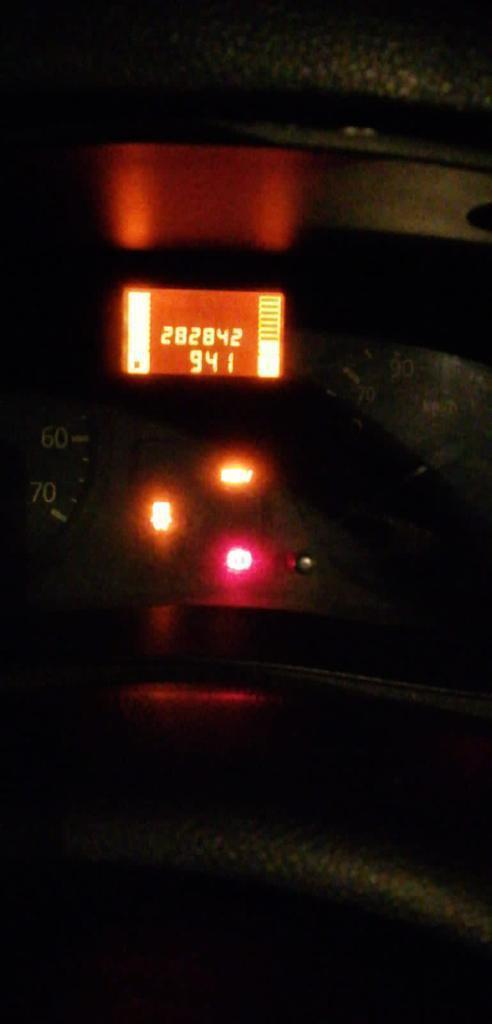1: (225, 350, 235, 375)
2: (159, 325, 173, 346), (229, 326, 243, 347), (188, 325, 201, 345)
4: (204, 349, 218, 374), (216, 327, 229, 346)
8: (201, 325, 215, 346), (174, 325, 187, 346)
9: (187, 349, 203, 374)
odometer: (116, 281, 288, 384)
